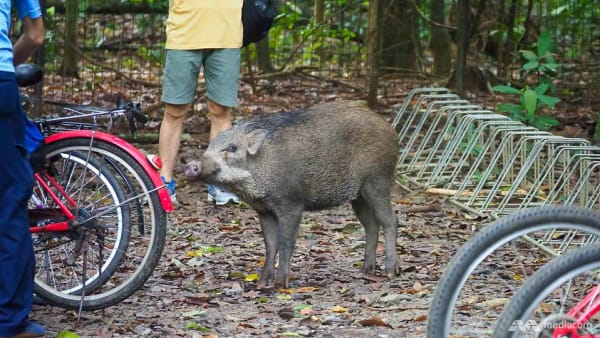boar: (181, 93, 416, 296)
